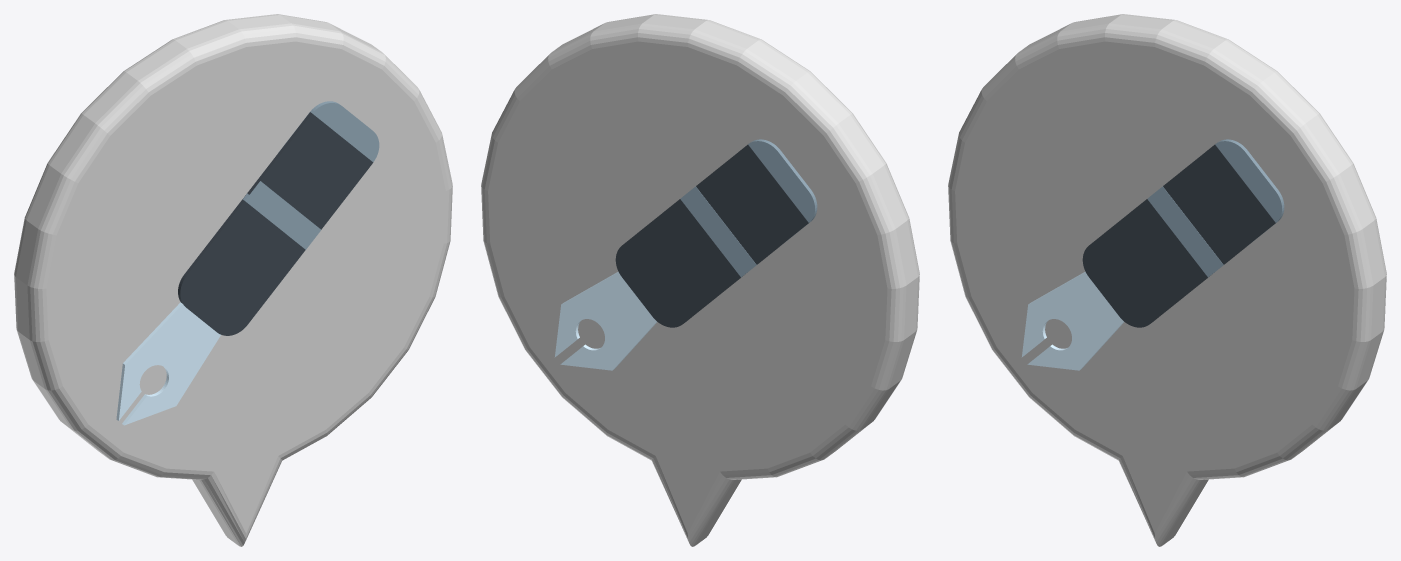
The model's file is fountain_pen.glb.
The picture shows the model from 3 angles, left to right: view 1: azimuth 30°, elevation 25°; view 2: azimuth 150°, elevation 25°; view 3: azimuth 330°, elevation 25°; orthographic projection.
Visible parts, largest first — view 1: EmotionBubble; view 2: EmotionBubble; view 3: EmotionBubble.
Part boxes in pixels (x1,y1,x2,y2): EmotionBubble: (14, 14, 452, 546); EmotionBubble: (481, 14, 919, 546); EmotionBubble: (948, 14, 1386, 546).
Bounding box in the file's own units: 5.29 × 6.16 × 0.688.
